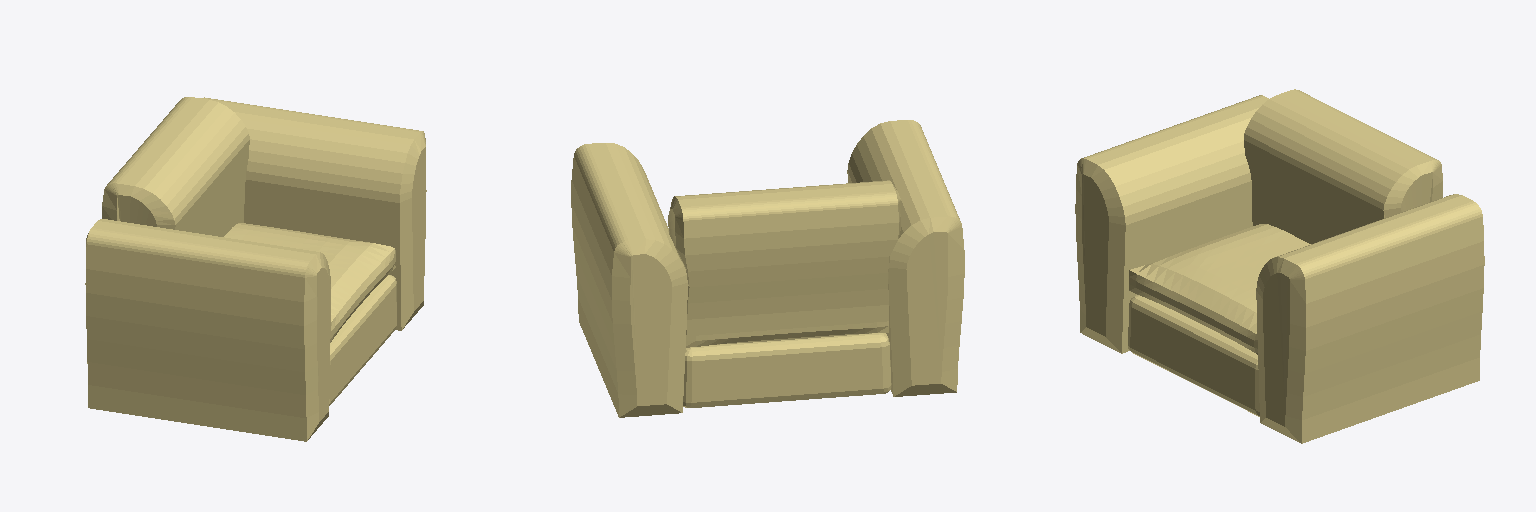
Rendered from sofa2.obj.
3 views of the same model, side by side, from view 1: azimuth 30°, elevation 25°; view 2: azimuth 150°, elevation 25°; view 3: azimuth 270°, elevation 25° (orthographic).
Visible parts, largest first — view 1: sandaran; view 2: sandaran; view 3: sandaran.
Part boxes in pixels (x1,y1,x2,y2): sandaran: (85, 97, 426, 441); sandaran: (571, 120, 964, 417); sandaran: (1075, 89, 1484, 443).
Size of the model in its own units: 4403 by 2314 by 4251.